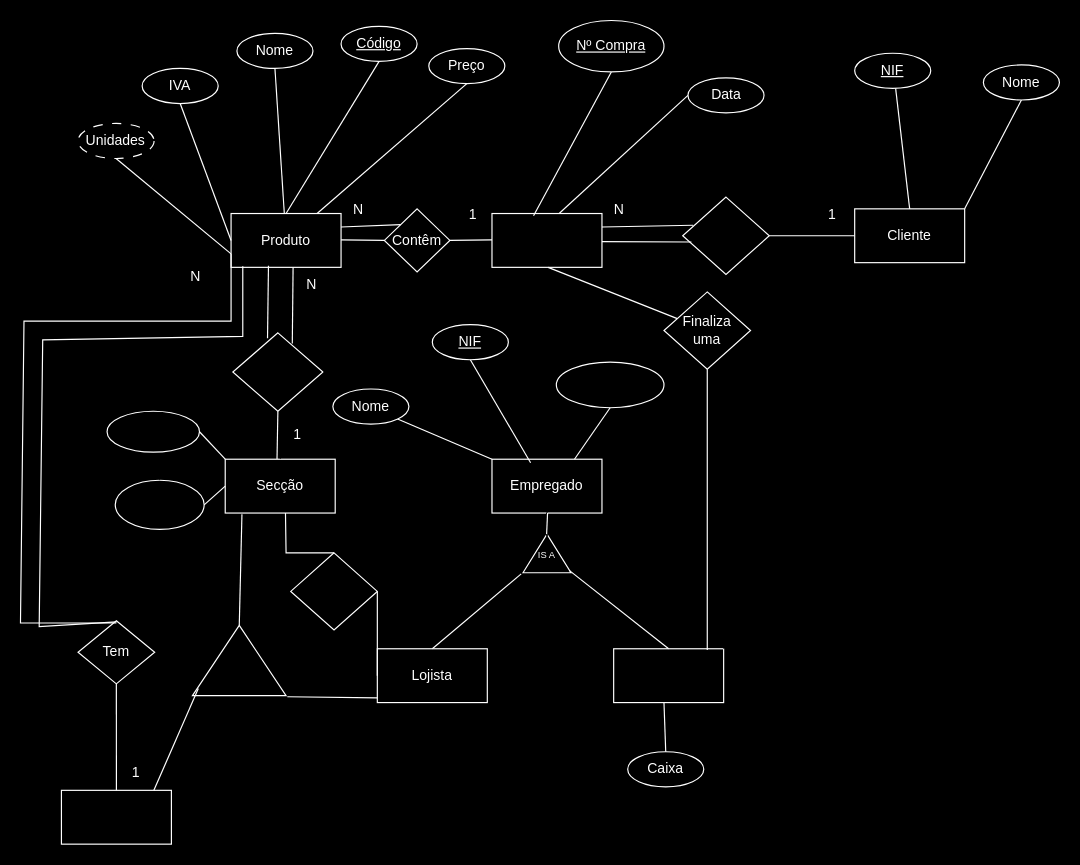
The diagram is 1080 pixels wide and 865 high, and some of its shapes have lost their labels. The box of each missing label's shape, as (x1, y1, x2, y2) in pixels:
Armazém: (60, 789, 171, 844)
Caixista: (612, 648, 724, 703)
Compra: (491, 212, 602, 267)
Nº corredor: (114, 479, 204, 529)
Nº Empregado: (555, 361, 664, 408)
Pertence a: (232, 332, 323, 411)
Pertence a uma: (290, 552, 377, 630)
Realiza: (682, 196, 769, 274)
ReStock: (191, 624, 286, 696)
Tipo: (106, 410, 199, 452)
